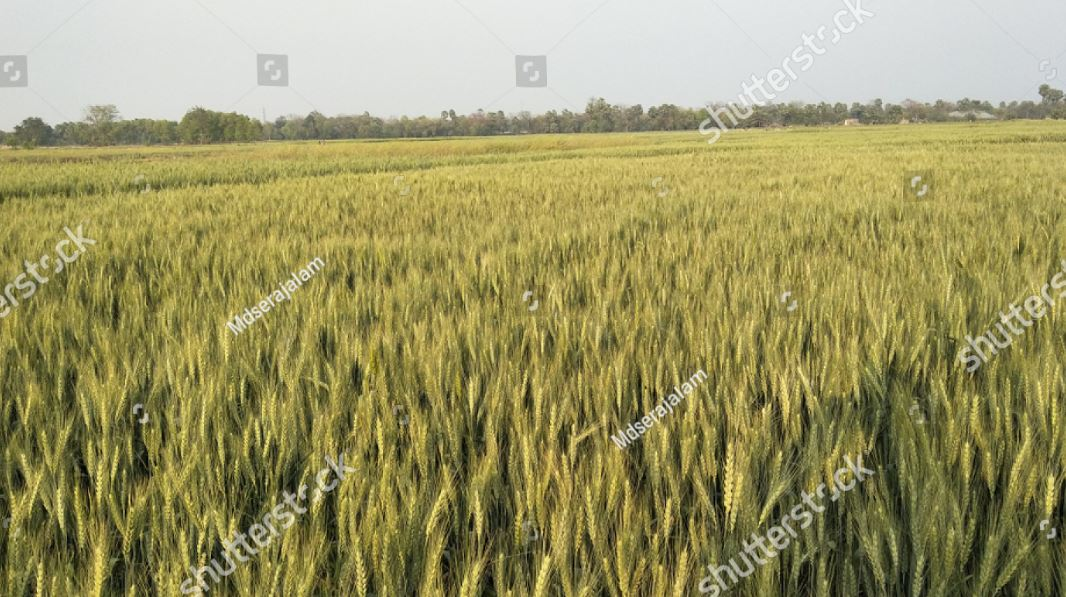Wheat: (112, 276, 699, 565)
